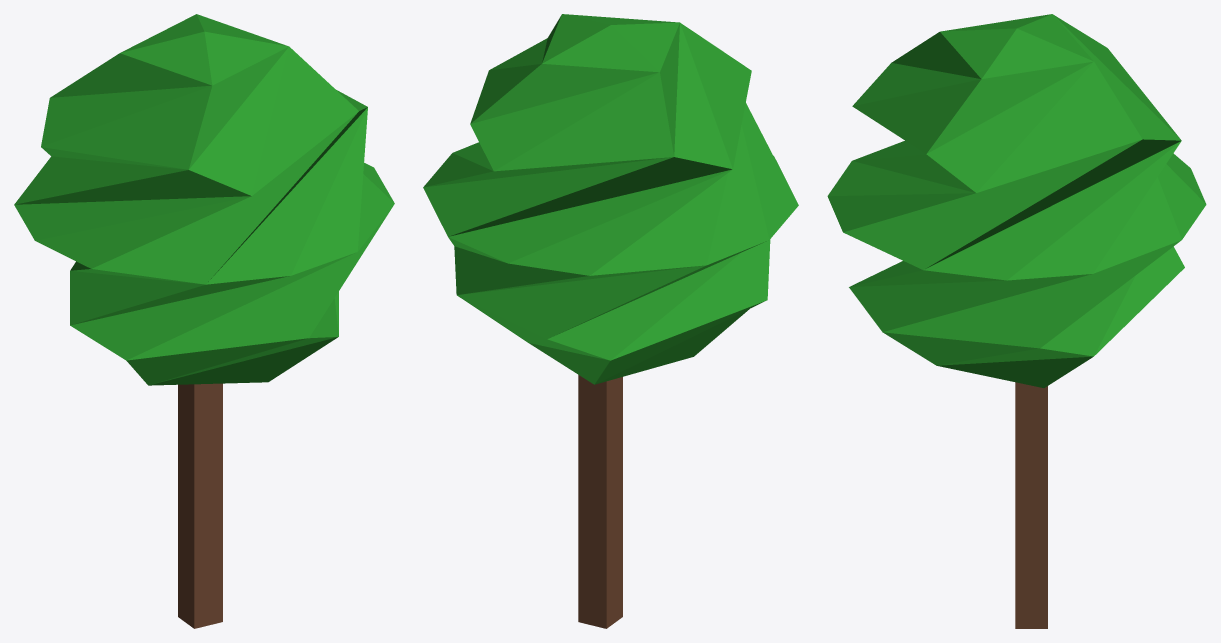
3 renders of one model, left to right at view 1: azimuth 30°, elevation 25°; view 2: azimuth 150°, elevation 25°; view 3: azimuth 270°, elevation 25°, orthographic.
Parts seen in each view (by area): view 1: Sphere_2_25, Board_2_8; view 2: Sphere_2_25, Board_2_8; view 3: Sphere_2_25, Board_2_8.
Boxes of the visible parts, x1,y1,x2,y2 form: Sphere_2_25: [14, 14, 394, 385]; Board_2_8: [178, 383, 222, 628]; Sphere_2_25: [423, 14, 798, 384]; Board_2_8: [578, 375, 622, 628]; Sphere_2_25: [827, 14, 1206, 387]; Board_2_8: [1015, 382, 1047, 628].
Bounding box in the file's own units: 434 × 749 × 434.
